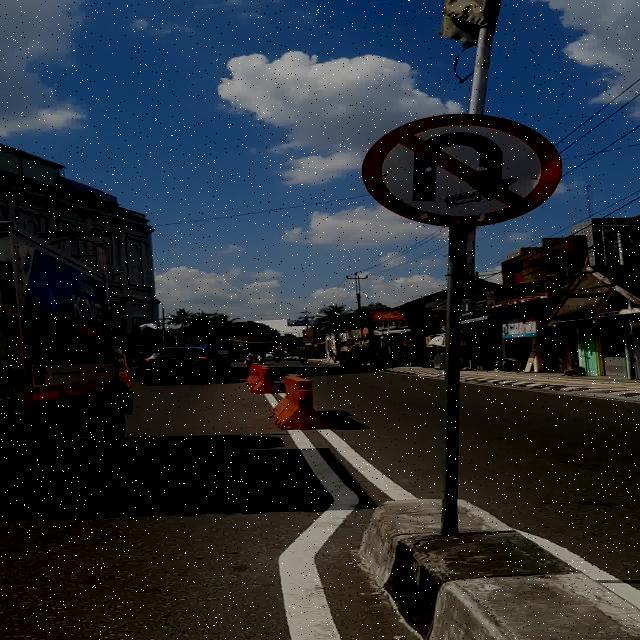Dilarang Putar Balik: (362, 113, 561, 227)
